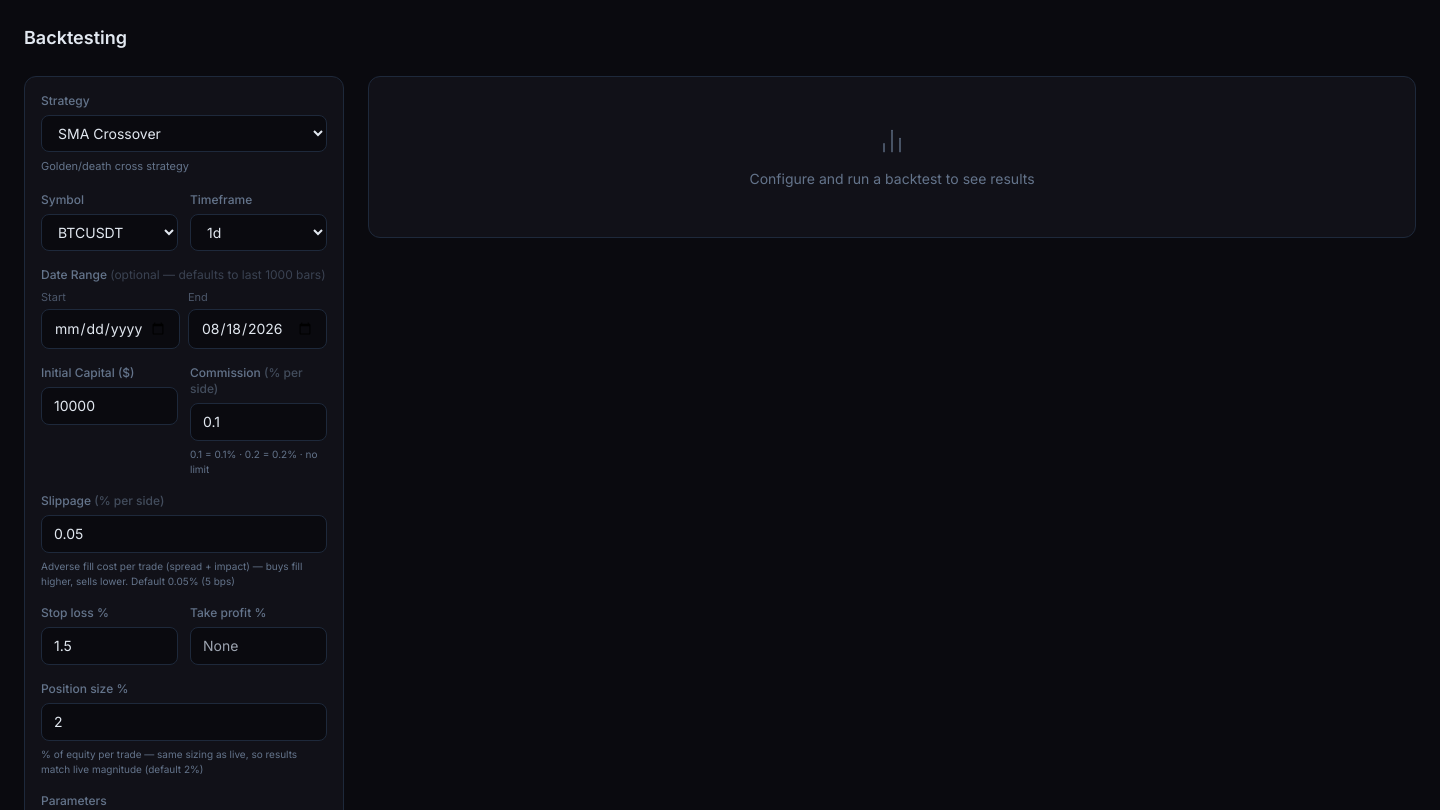
it: Backtests page › switches parameter inputs when a different strategy is selected
Select "RSI Mean Reversion" in the 1st dropdown at (184, 134), box [41,115,327,152]
(page scrolled)
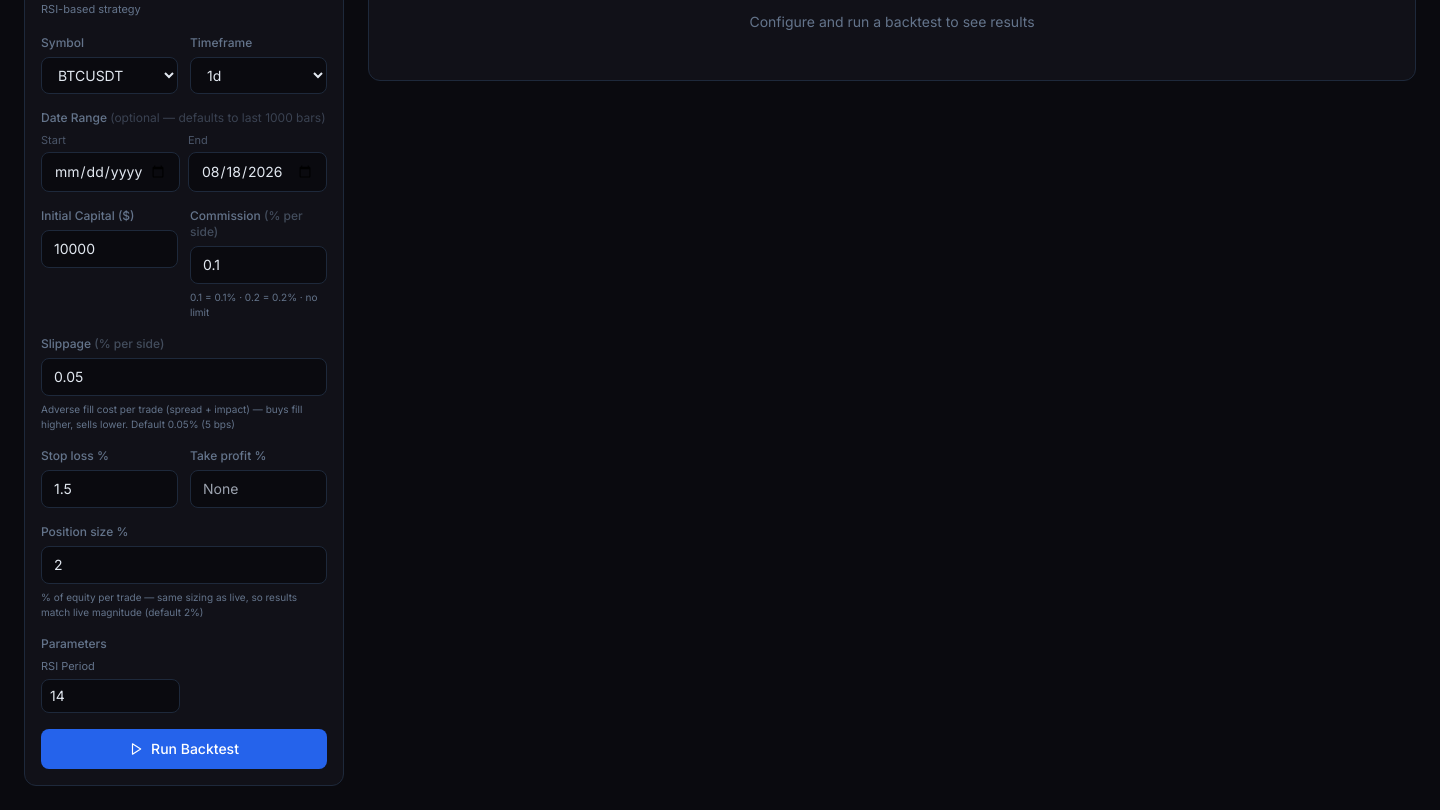
Expected: the text "RSI Period" is shown, [41,659,95,673]
